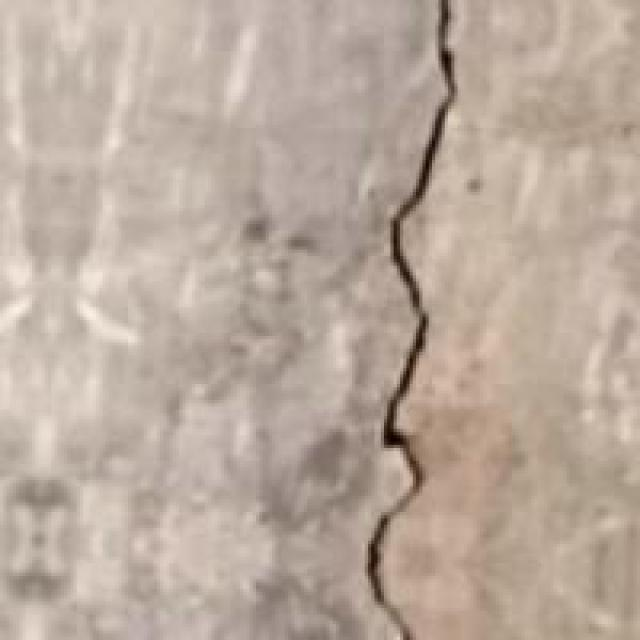Crack: (346, 0, 506, 637)
